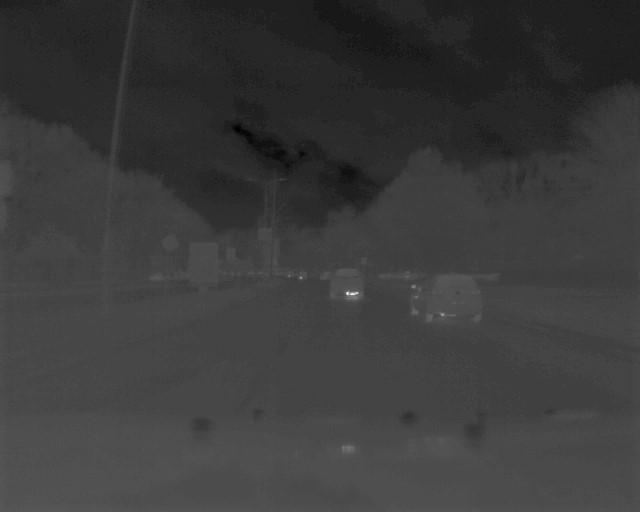car: (406, 271, 481, 322), (326, 269, 367, 305)
